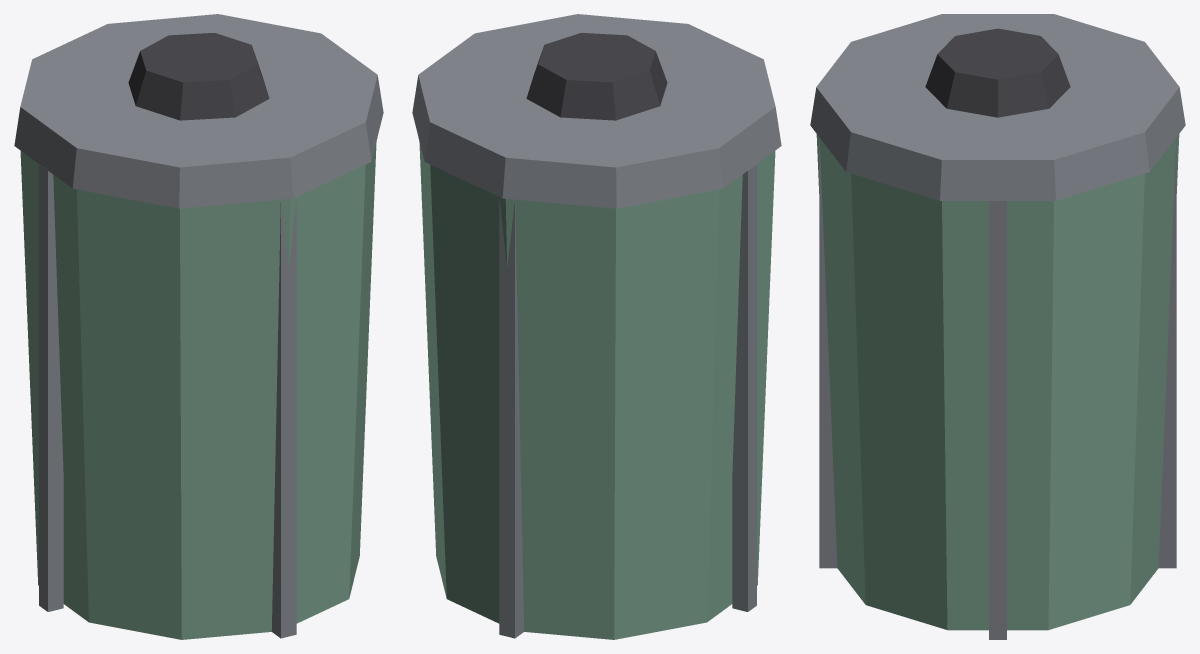
The model's file is trash_can.glb.
The picture shows the model from 3 angles, left to right: view 1: azimuth 30°, elevation 25°; view 2: azimuth 150°, elevation 25°; view 3: azimuth 270°, elevation 25°; orthographic projection.
Parts seen in each view (by area): view 1: trash_can; view 2: trash_can; view 3: trash_can.
Part boxes in pixels (x1=…): trash_can: x1=14, y1=14, x2=383, y2=639; trash_can: x1=412, y1=14, x2=781, y2=639; trash_can: x1=810, y1=14, x2=1185, y2=639.
Bounding box in the file's own units: 0.59 × 0.93 × 0.62.
